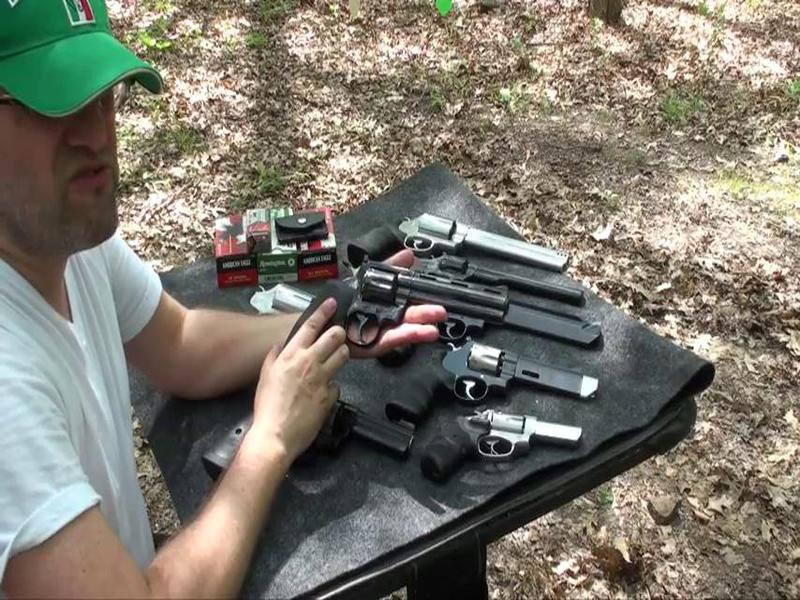Revolver: (274, 243, 530, 387)
